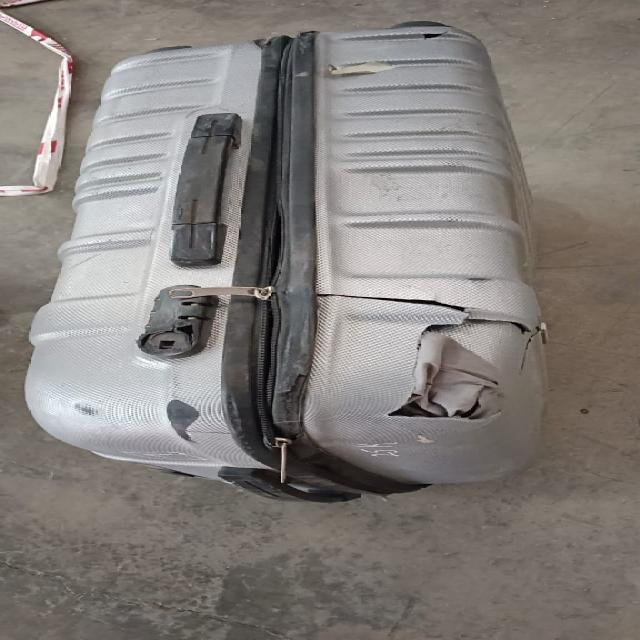Damage-bag: (136, 285, 314, 440), (349, 296, 544, 419), (247, 54, 292, 281), (167, 400, 200, 441), (344, 31, 472, 40)
